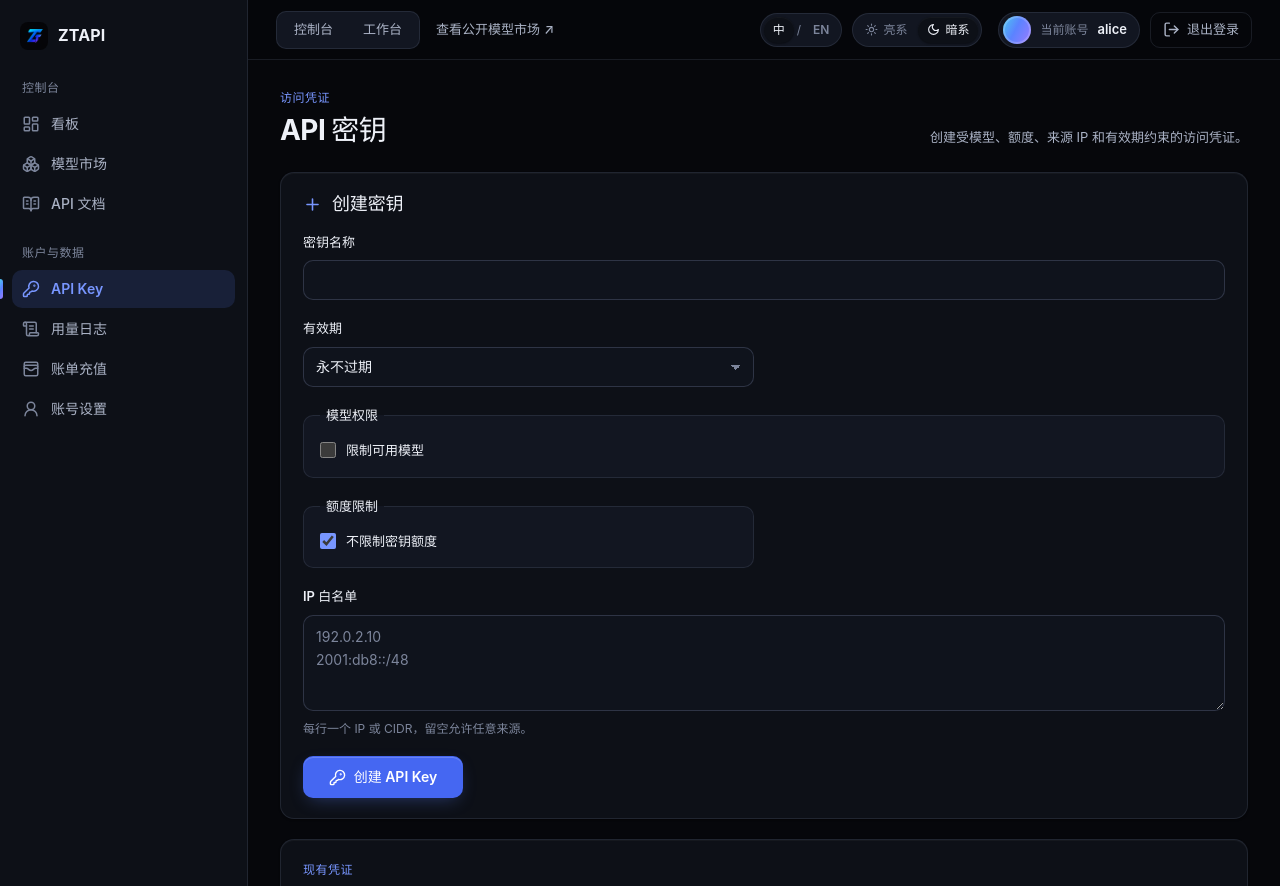
Test: ZTAPI one-time API keys › does not let a stale create refresh overwrite a newer key page
Type "refresh-race-key" into the field labelled "密钥名称" at point(764, 280), box x1=303 y1=260 x2=1225 y2=300
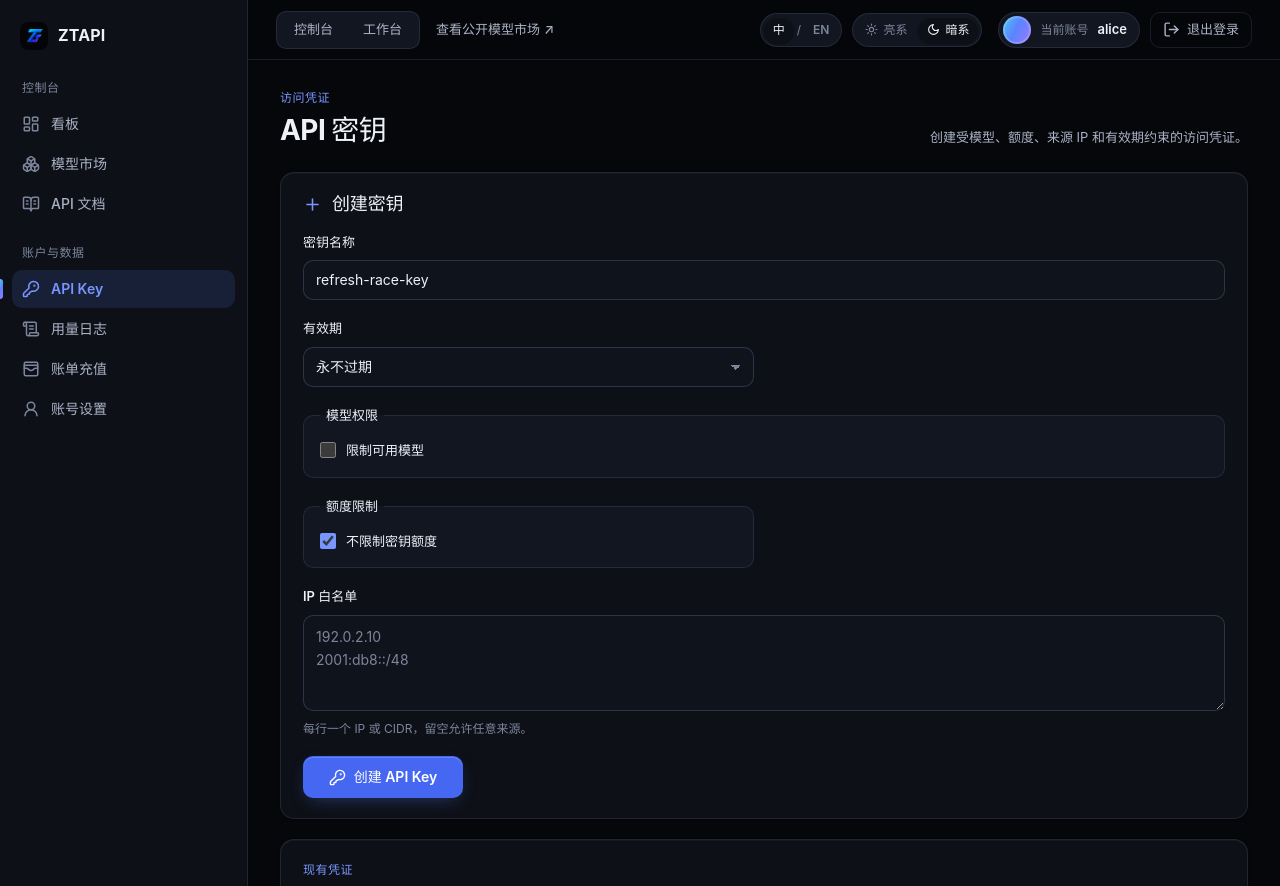
Click the button "创建 API Key" at point(383, 778), box x1=303 y1=756 x2=463 y2=798
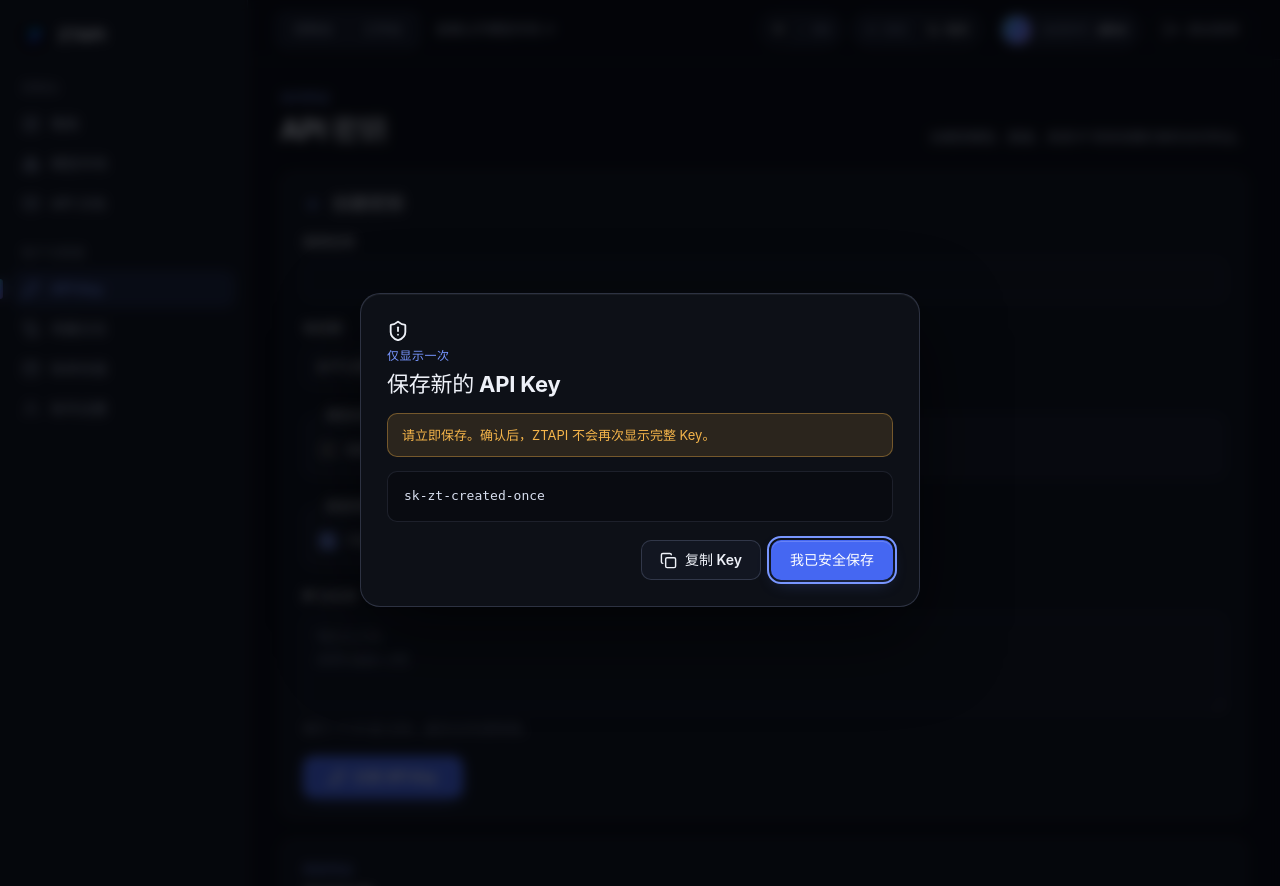
Result: the text "sk-zt-created-once" is shown at x1=387 y1=471 x2=893 y2=522
Click the button "我已安全保存" at point(832, 560), box x1=771 y1=540 x2=893 y2=580
(page scrolled)
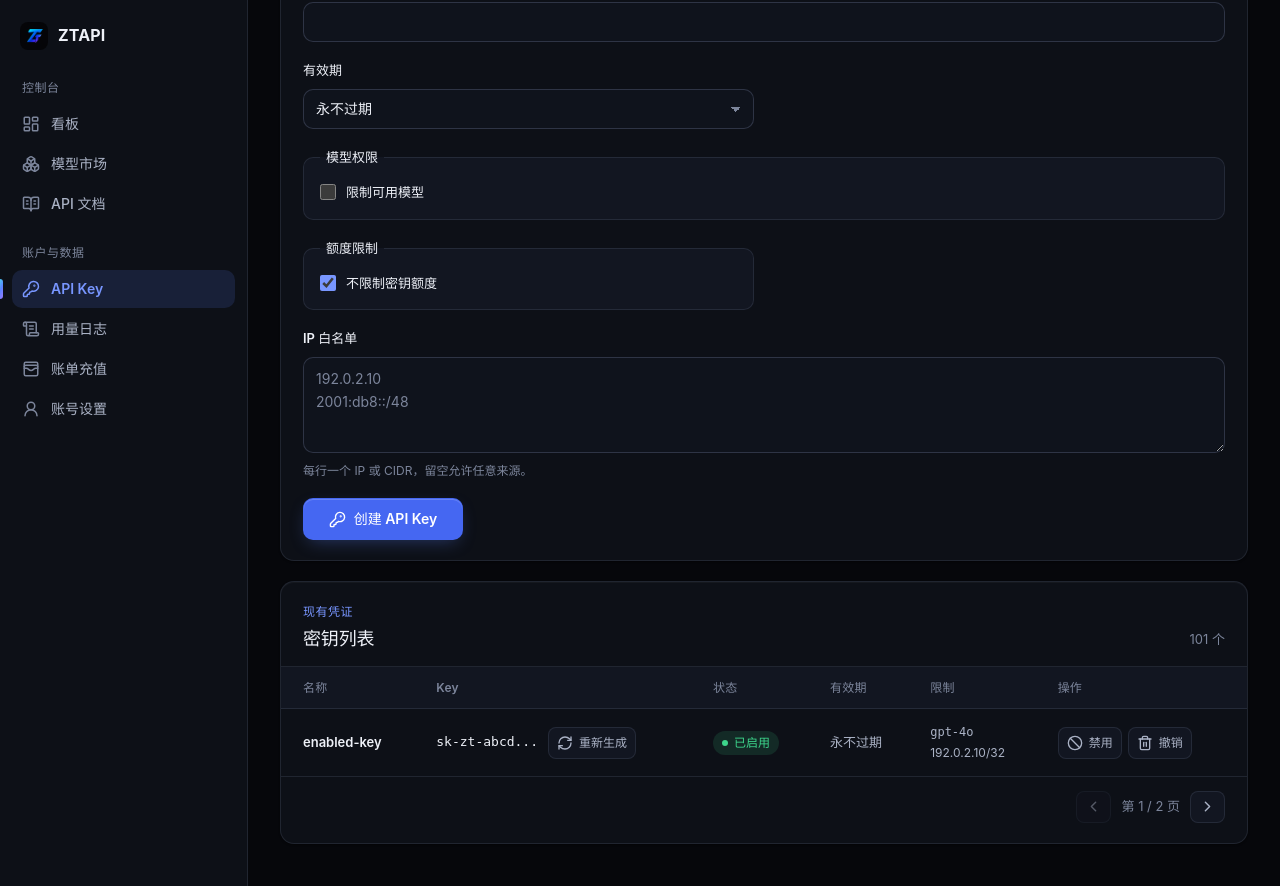
Click the button named "下一页" at point(1208, 807), box x1=1190 y1=791 x2=1225 y2=823
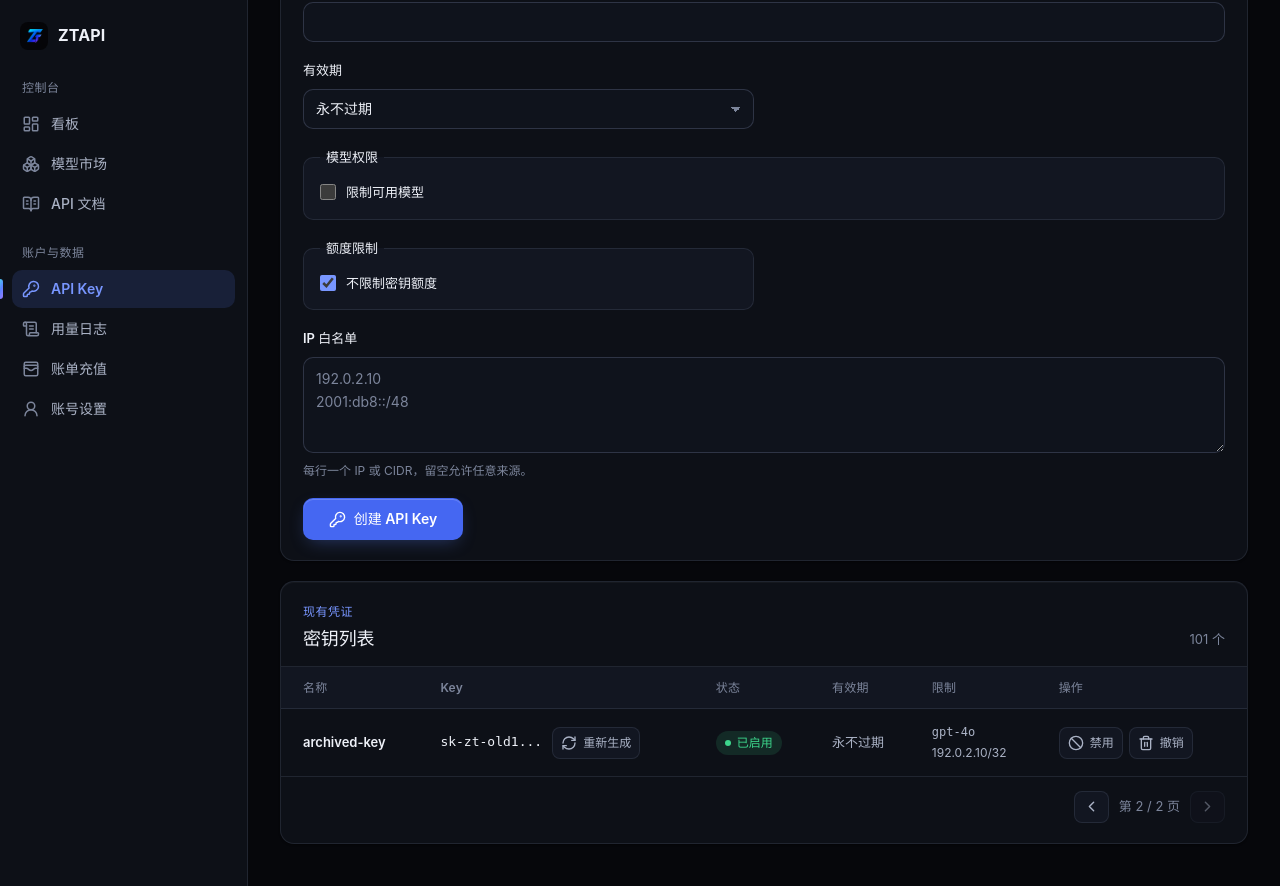
Result: the text "第 2 / 2 页" is shown at x1=1119 y1=796 x2=1180 y2=817
Result: the text "archived-key" is shown at x1=303 y1=734 x2=386 y2=750
Result: the text "enabled-key" is gone
